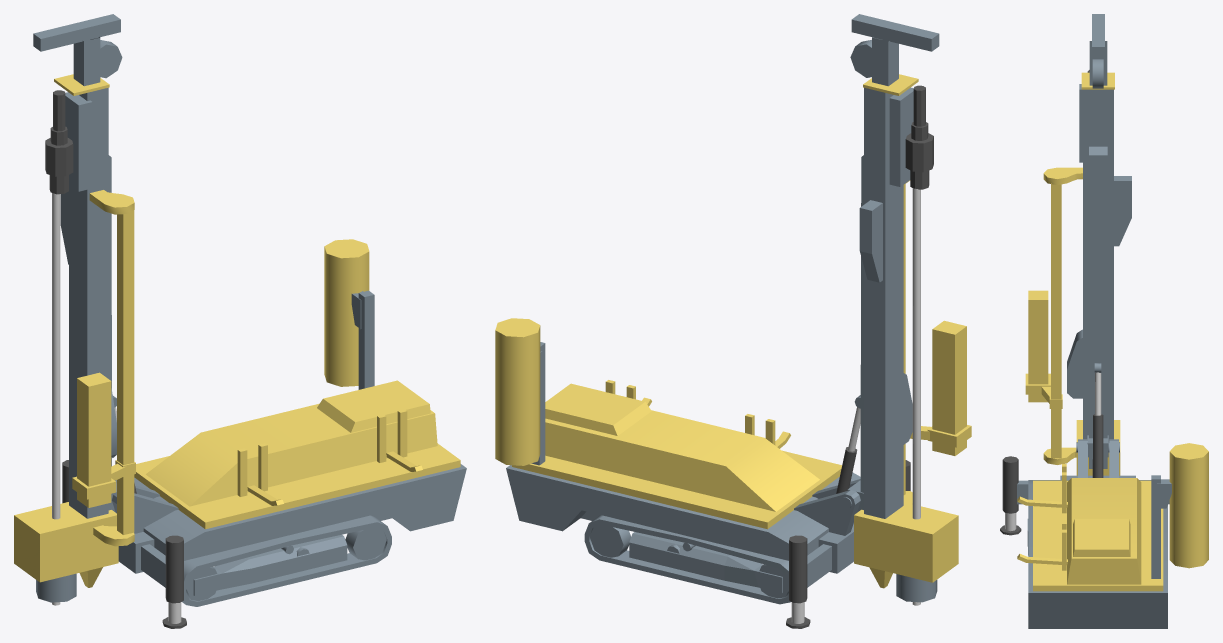
The model's file is Explorac_E100_900_v.fbx.
3 views of the same model, side by side, from view 1: azimuth 30°, elevation 25°; view 2: azimuth 150°, elevation 25°; view 3: azimuth 270°, elevation 25° (orthographic). The views are drawn at different scales.
Visible parts, largest first — view 1: Explorac E100; view 2: Explorac E100; view 3: Explorac E100.
Part boxes in pixels (left/top/right/bottom): Explorac E100: left=14, top=14, right=466, bottom=628; Explorac E100: left=495, top=14, right=971, bottom=628; Explorac E100: left=1000, top=14, right=1208, bottom=628.
Bounding box in the file's own units: 566 × 776 × 304.
